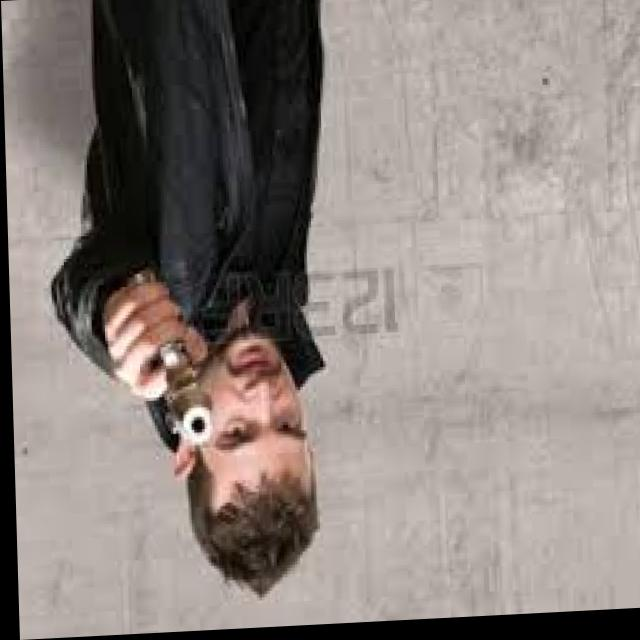handgun: (126, 268, 212, 455)
